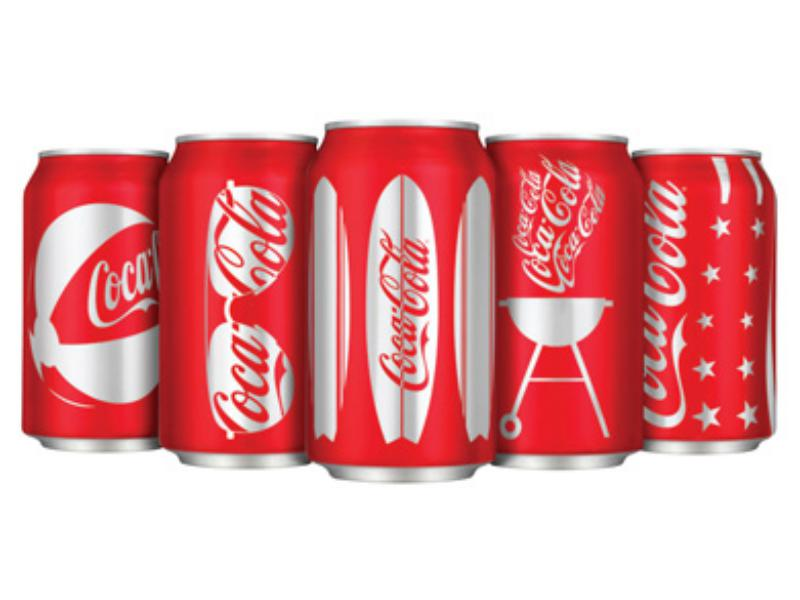can: (307, 108, 498, 484), (159, 125, 317, 475), (494, 128, 635, 477), (635, 143, 784, 462), (25, 138, 156, 456)
